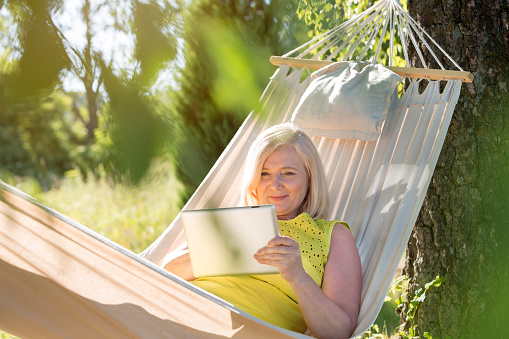deitado: (206, 132, 362, 339)
